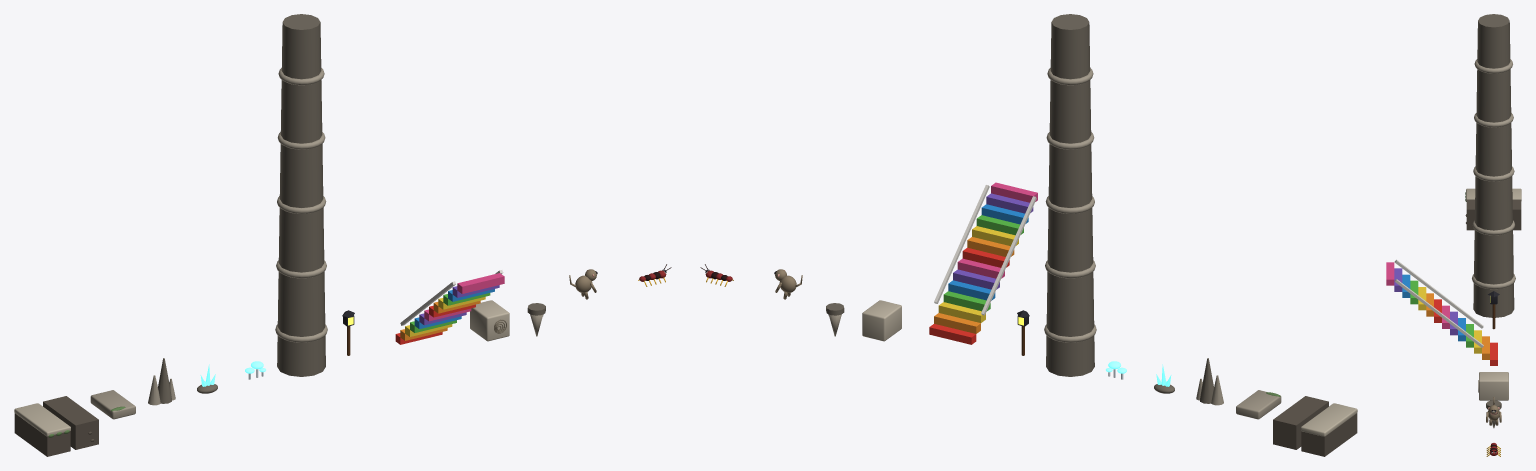
File: kit_cave.glb
The picture shows the model from 3 angles, left to right: view 1: azimuth 30°, elevation 25°; view 2: azimuth 150°, elevation 25°; view 3: azimuth 270°, elevation 25°; orthographic projection. The views are drawn at different scales.
Parts seen in each view (by area): view 1: ColBody, gua_TF, GuaBlockBody, gua_TT_dirt, gua_TT_cap, LedgeSlab; view 2: ColBody, gua_TF, GuaBlockBody, gua_TT_dirt, gua_TT_cap, LedgeSlab, StepRail-1.0; view 3: ColBody, GuaBlockBody, gua_TF, StepRail-1.0, StepRail1.0, ColRing0, ColRing1, ColRing2, ColRing3, ColRing4, gua_TT_cap, Step13 (+13 smaller).
Part boxes in pixels (left/top/right/bottom): ColBody: left=277, top=14, right=325, bottom=376; gua_TF: left=43, top=396, right=98, bottom=449; GuaBlockBody: left=470, top=300, right=509, bottom=341; gua_TT_dirt: left=14, top=413, right=70, bottom=456; gua_TT_cap: left=14, top=403, right=70, bottom=436; LedgeSlab: left=90, top=390, right=135, bottom=419; ColBody: left=1046, top=14, right=1094, bottom=376; gua_TF: left=1273, top=396, right=1328, bottom=449; GuaBlockBody: left=862, top=300, right=901, bottom=341; gua_TT_dirt: left=1301, top=413, right=1357, bottom=456; gua_TT_cap: left=1301, top=403, right=1357, bottom=436; LedgeSlab: left=1236, top=390, right=1281, bottom=419; StepRail-1.0: left=981, top=196, right=1036, bottom=315; ColBody: left=1473, top=14, right=1514, bottom=317; GuaBlockBody: left=1479, top=372, right=1508, bottom=400; gua_TF: left=1466, top=200, right=1521, bottom=230; StepRail-1.0: left=1394, top=259, right=1483, bottom=328; StepRail1.0: left=1394, top=279, right=1483, bottom=347; ColRing0: left=1472, top=274, right=1515, bottom=289; ColRing1: left=1472, top=220, right=1514, bottom=235; ColRing2: left=1473, top=166, right=1514, bottom=181; ColRing3: left=1474, top=113, right=1513, bottom=127; ColRing4: left=1474, top=59, right=1512, bottom=73; gua_TT_cap: left=1466, top=188, right=1521, bottom=201; Step13: left=1386, top=262, right=1394, bottom=285.
Bounding box in the file's own units: 27.15 × 15.1 × 5.95.
